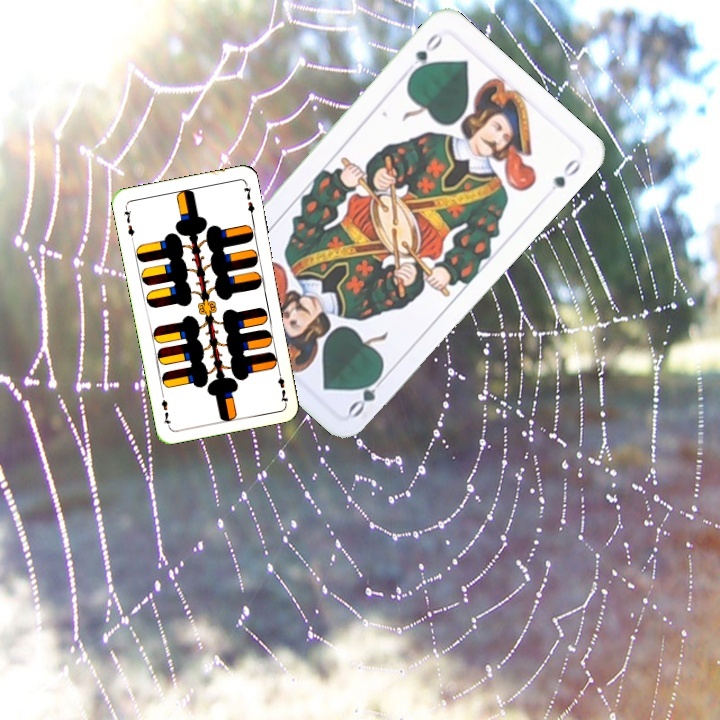E7: (119, 203, 137, 243), (274, 365, 291, 405)
GO: (344, 367, 391, 420), (405, 28, 446, 80)
